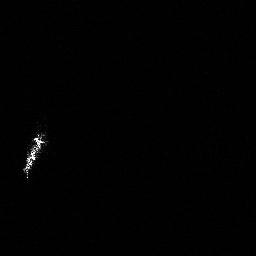ship: (20, 131, 47, 179)
